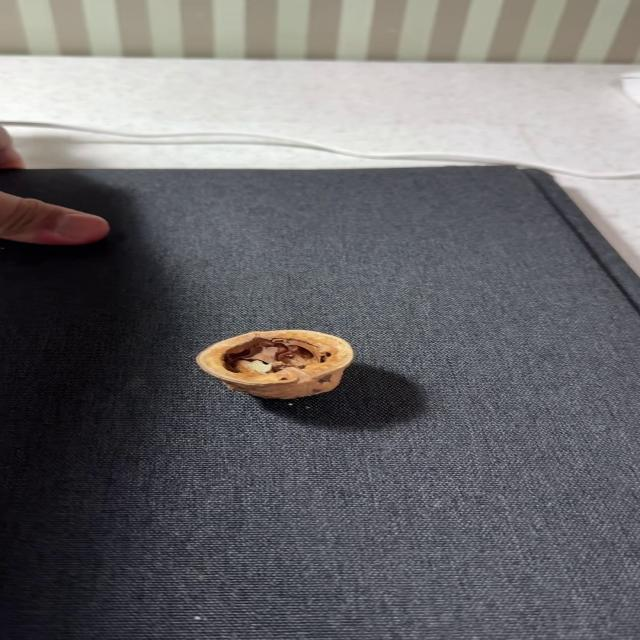nuts-bad0.5: (197, 330, 353, 400)
